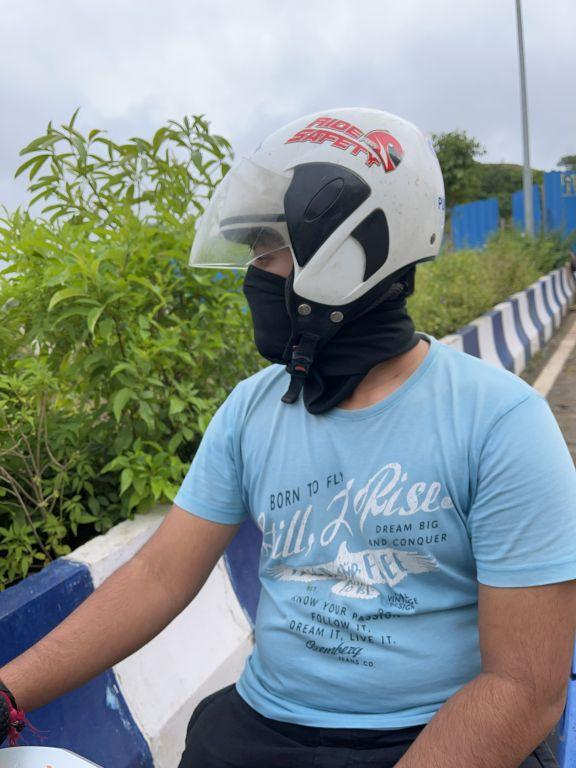helmet: (185, 102, 461, 351)
